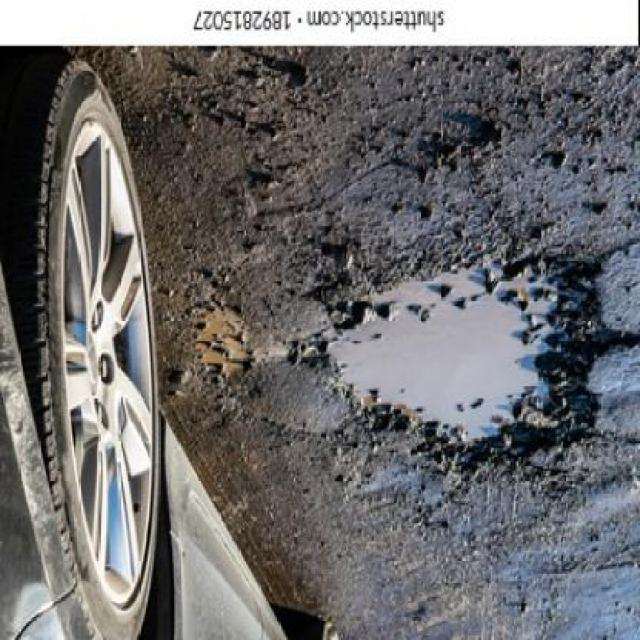Pothole: (321, 245, 636, 474)
